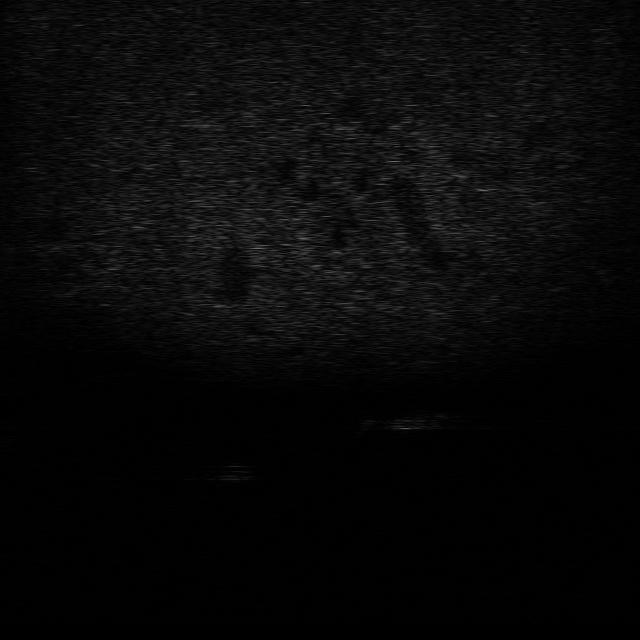ball: (198, 459, 262, 487)
human body: (346, 406, 459, 436)
